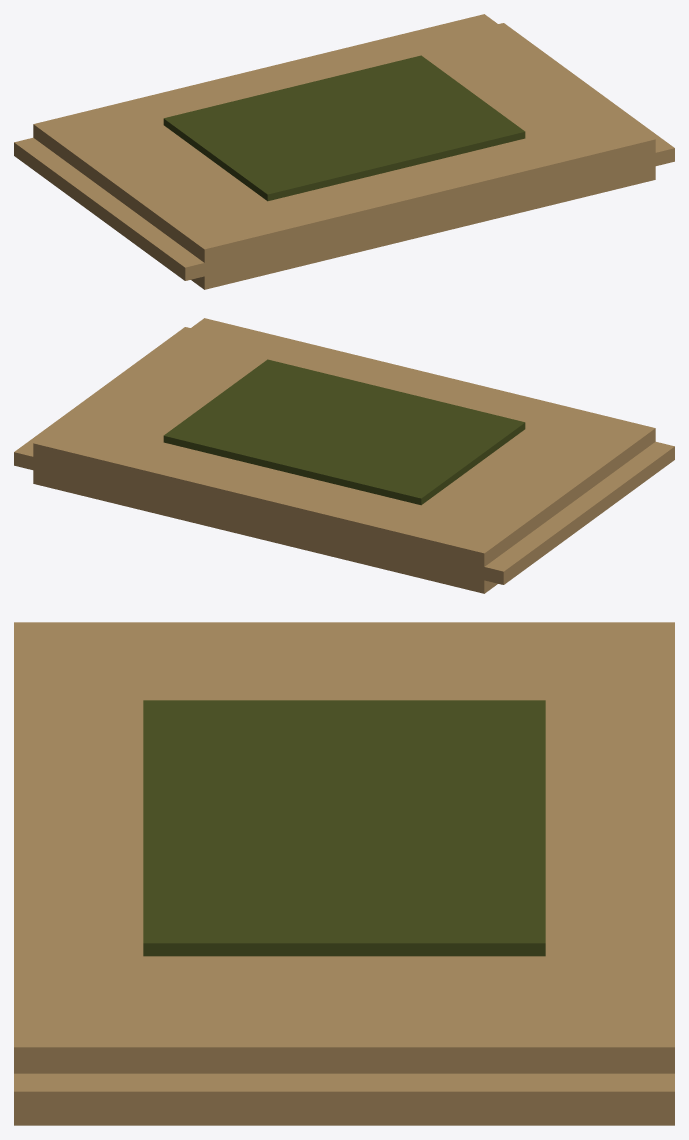
Rendered from mre_bag_small.glb.
3 renders of one model, top to bottom at view 1: azimuth 30°, elevation 25°; view 2: azimuth 150°, elevation 25°; view 3: azimuth 270°, elevation 25°, orthographic. The views are drawn at different scales.
Visible parts, largest first — view 1: mre_bag_small:compound; view 2: mre_bag_small:compound; view 3: mre_bag_small:compound.
Part boxes in pixels (x1,y1,x2,y2): mre_bag_small:compound: (14, 14, 674, 289); mre_bag_small:compound: (14, 318, 674, 593); mre_bag_small:compound: (14, 622, 674, 1125).
Size of the model in its own units: 0.152 by 0.014 by 0.092.
